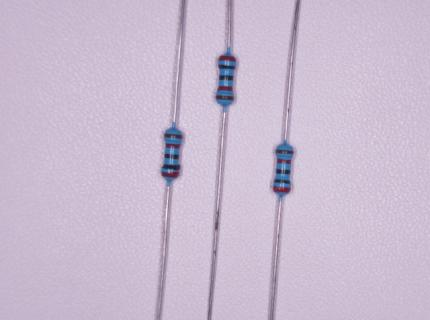Black band: (162, 163, 180, 170), (273, 178, 291, 184), (218, 64, 236, 70), (276, 168, 291, 175), (164, 153, 179, 159), (219, 75, 234, 81)
Brown band: (164, 133, 183, 140), (215, 95, 234, 101), (275, 149, 294, 154)
Red band: (272, 186, 291, 193), (161, 171, 179, 178), (219, 55, 237, 62), (165, 143, 180, 149), (277, 158, 291, 164), (218, 86, 233, 91)
